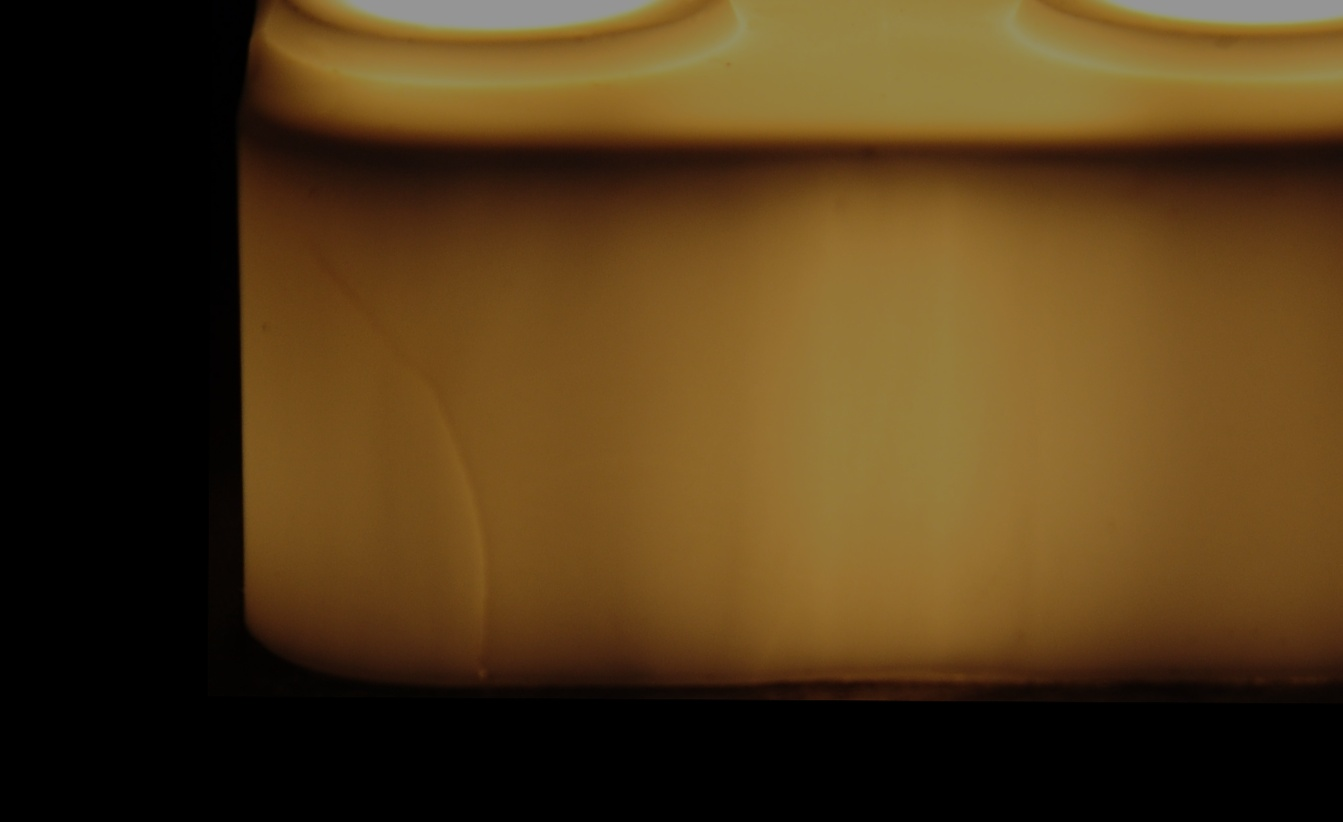flaw: (454, 388, 495, 685), (372, 315, 422, 410), (310, 266, 377, 332), (426, 360, 450, 451)
